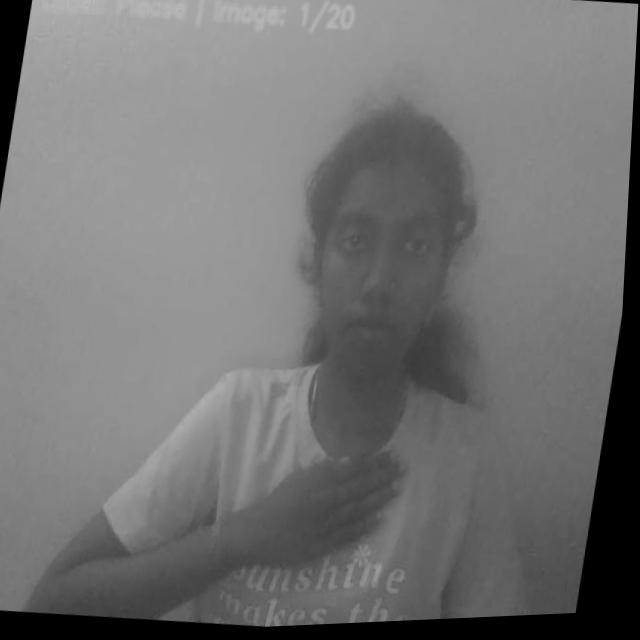Please: (86, 415, 422, 636)
